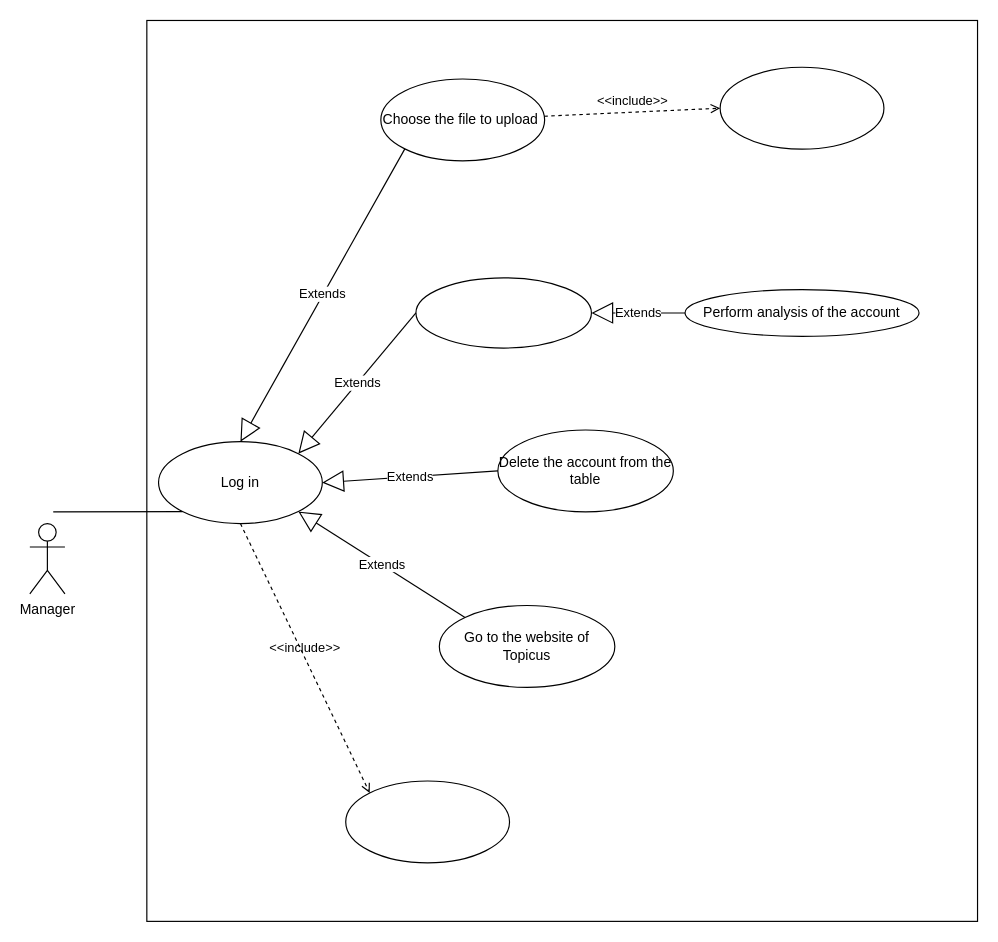
Image size: 998x942. Some labels were removed from this diagram. Here are the shapes that lost their labels. From the top down, the centre of each, then its label:
point (801, 107): Press submit button
point (503, 312): Search for an account in a search bar
point (427, 821): Log out
